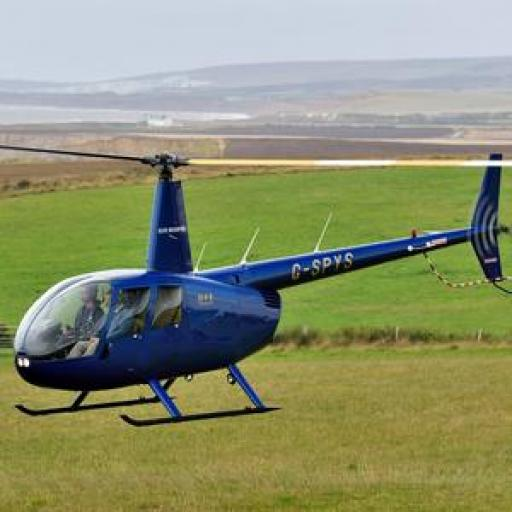helicopter: (4, 138, 512, 431)
